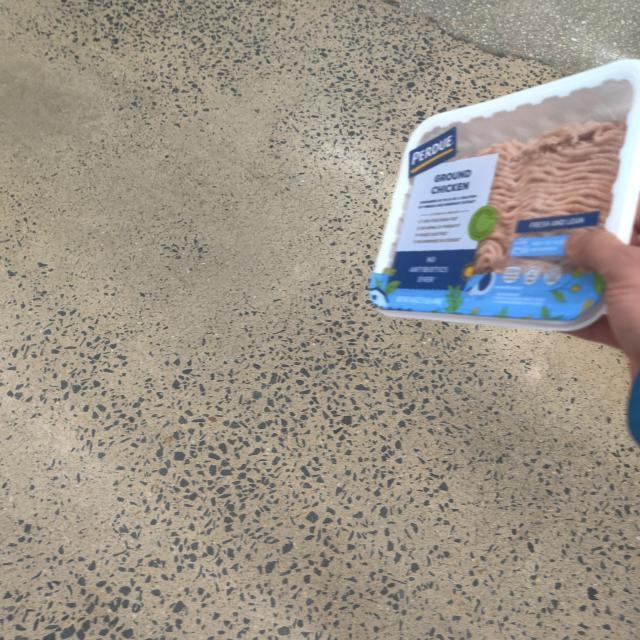Meat: (370, 103, 640, 337)
